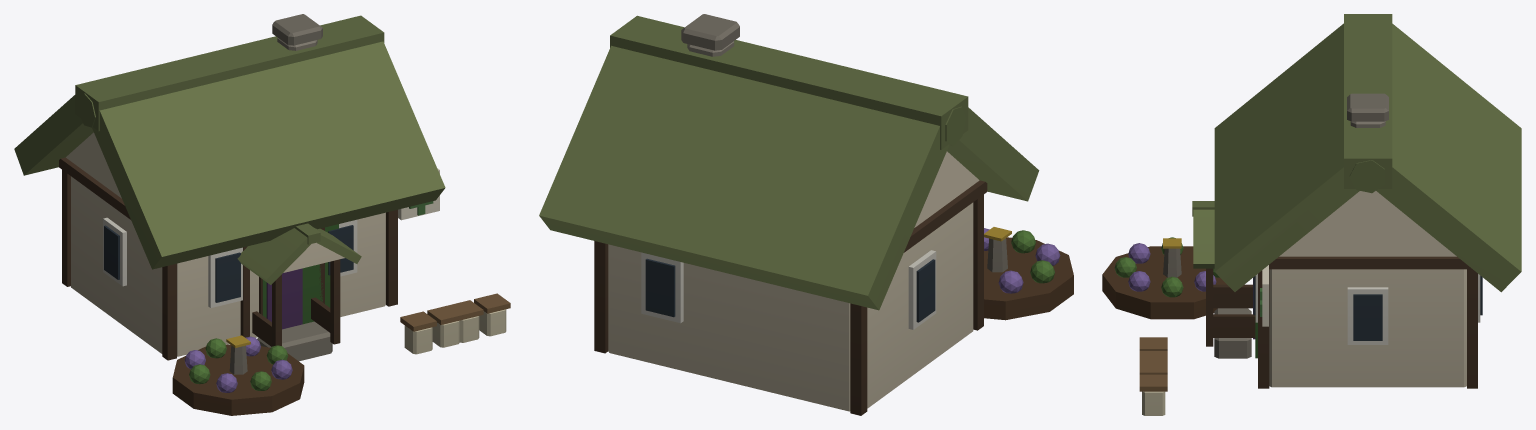
File: clinic.glb
3 renders of one model, left to right at view 1: azimuth 30°, elevation 25°; view 2: azimuth 150°, elevation 25°; view 3: azimuth 270°, elevation 25°, orthographic. The views are drawn at different scales.
Parts seen in each view (by area): view 1: clinic_model; view 2: clinic_model; view 3: clinic_model.
Boxes of the visible parts, x1,y1,x2,y2 form: clinic_model: (14, 14, 510, 415); clinic_model: (539, 14, 1073, 415); clinic_model: (1102, 14, 1521, 415).
Size of the model in its own units: 0.81 by 0.654 by 0.8992.
